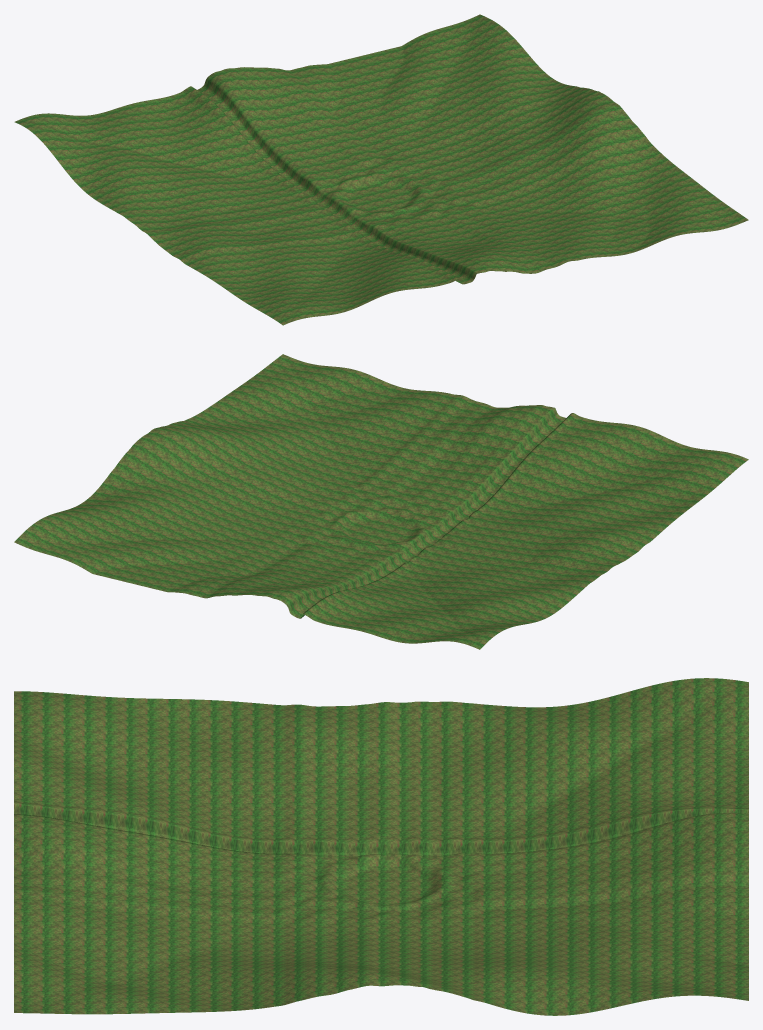
The model's file is terrain_hollow.glb.
3 renders of one model, top to bottom at view 1: azimuth 30°, elevation 25°; view 2: azimuth 150°, elevation 25°; view 3: azimuth 270°, elevation 25°, orthographic. The views are drawn at different scales.
Parts seen in each view (by area): view 1: terrain_hills; view 2: terrain_hills; view 3: terrain_hills.
Boxes of the visible parts, x1,y1,x2,y2 form: terrain_hills: (14,14,748,325); terrain_hills: (14,354,748,649); terrain_hills: (14,678,748,1015).
Size of the model in its own units: 280 by 25.34 by 280.
Materials: 1 (1 with a texture image).
